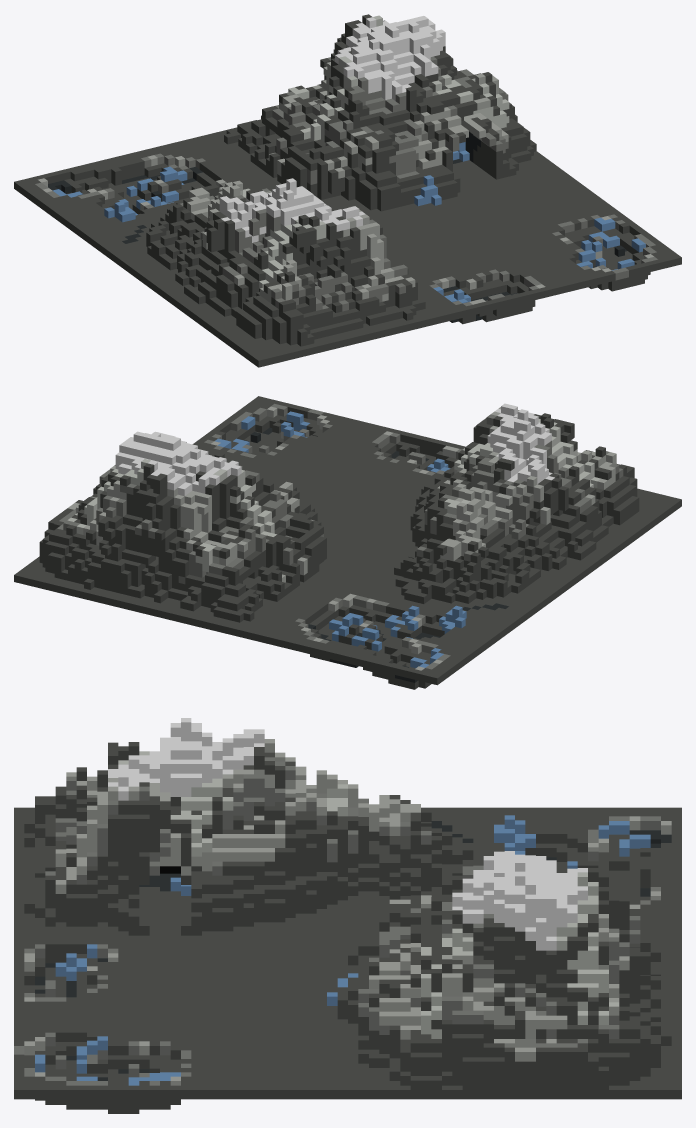
The model's file is mountain.gltf.
3 renders of one model, top to bottom at view 1: azimuth 30°, elevation 25°; view 2: azimuth 150°, elevation 25°; view 3: azimuth 270°, elevation 25°, orthographic. The views are drawn at different scales.
Visible parts, largest first — view 1: ground, minerals; view 2: ground, minerals; view 3: ground, minerals.
Boxes of the visible parts, <box> form: ground: <box>14,14,681,367</box>; minerals: <box>52,142,645,303</box>; ground: <box>14,396,681,689</box>; minerals: <box>215,411,466,668</box>; ground: <box>14,718,681,1113</box>; minerals: <box>35,815,650,1085</box>.
Bounding box in the file's own units: 64 × 20 × 64.
